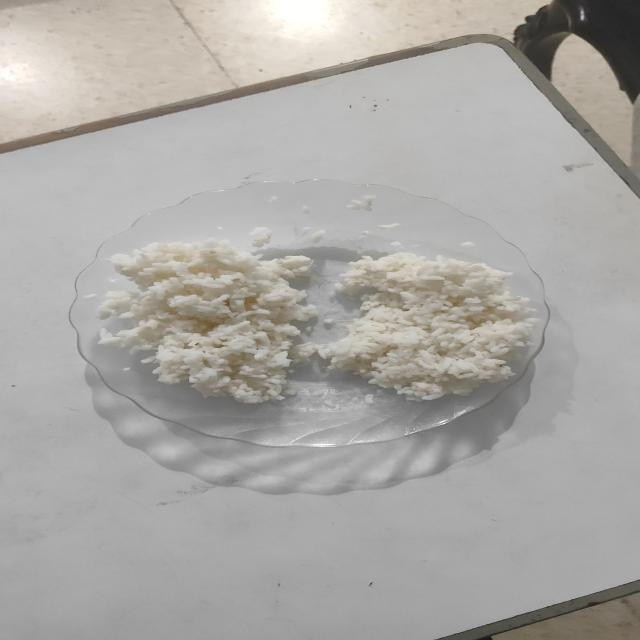nasi_putih: (98, 240, 316, 403), (324, 253, 535, 401)
